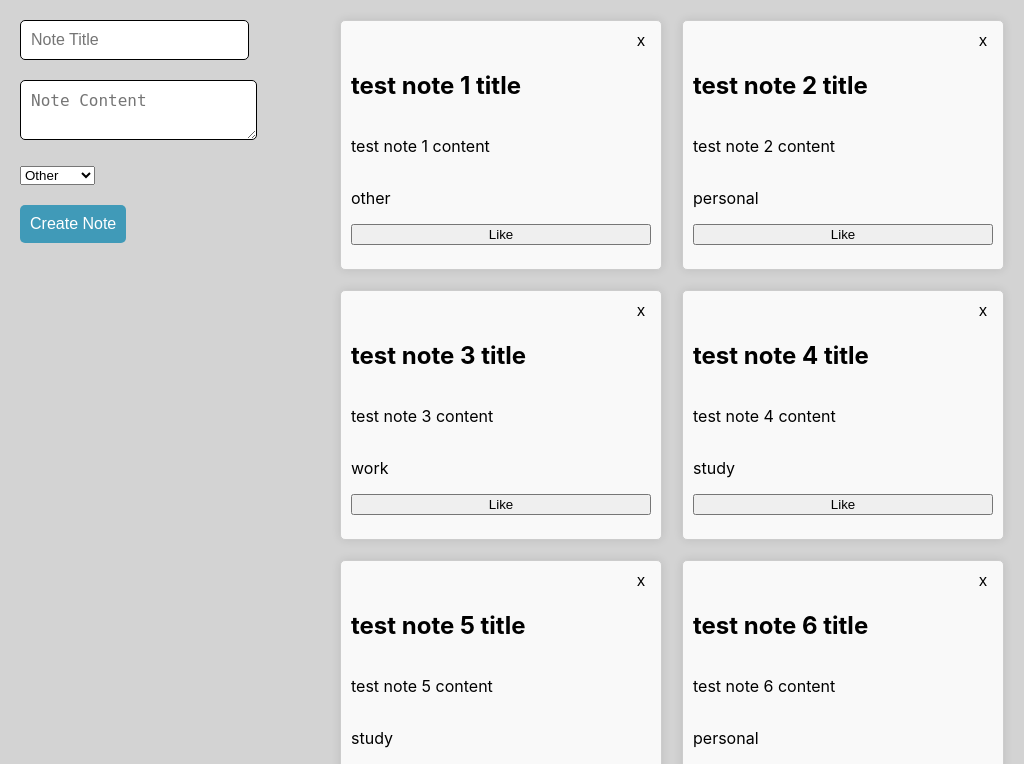
Test: Sticky Notes Component › should delete a note when the delete button is clicked
The width and height of the screenshot is (1024, 764).
What coordinates should you click on to do the following:
click the 1st button "x"
I would click on:
 (641, 41)
Its box is [631,31,651,51].
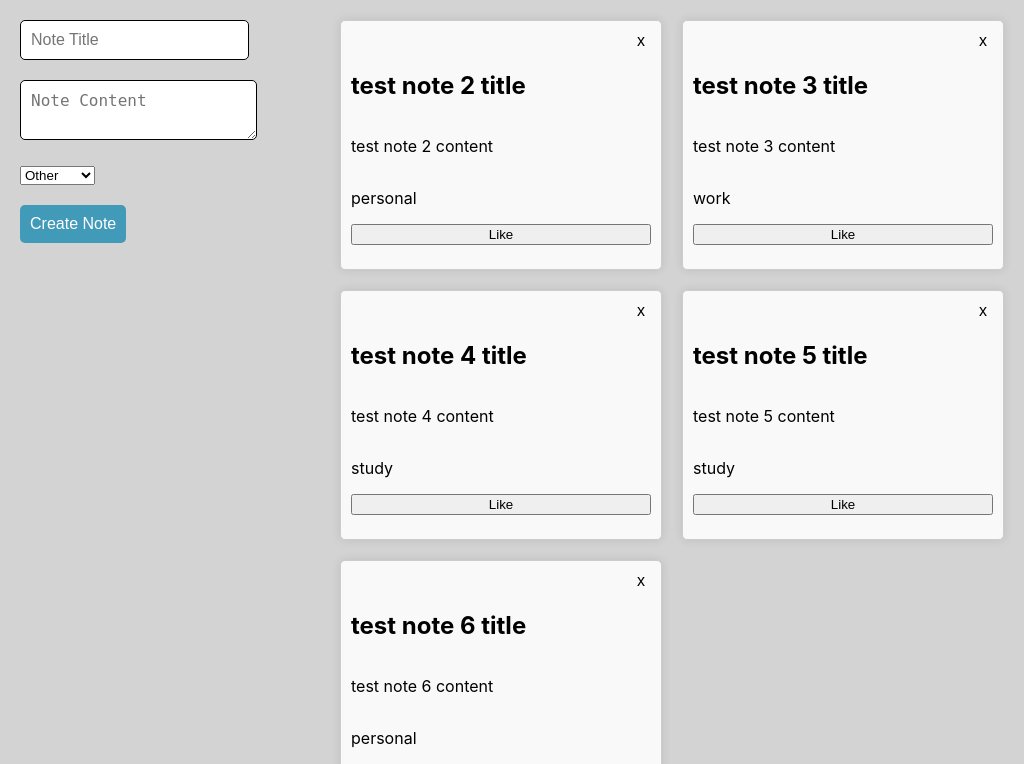
Check: the heading "test note 1 title" is gone
